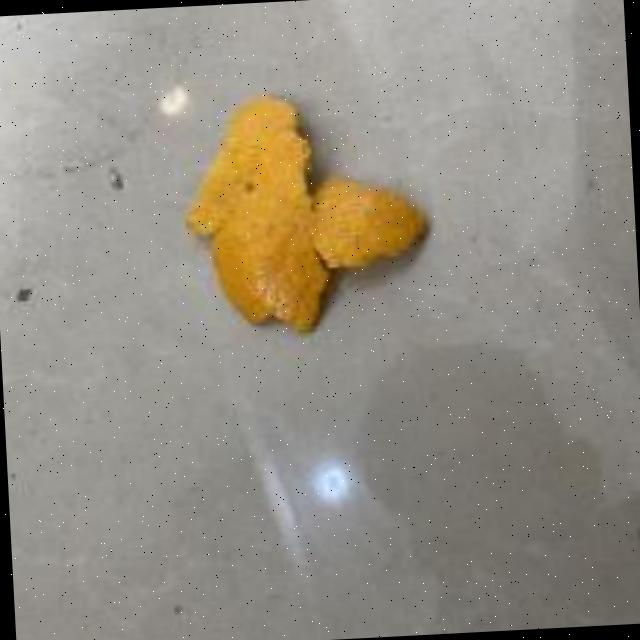orange-peel: (176, 82, 434, 338)
